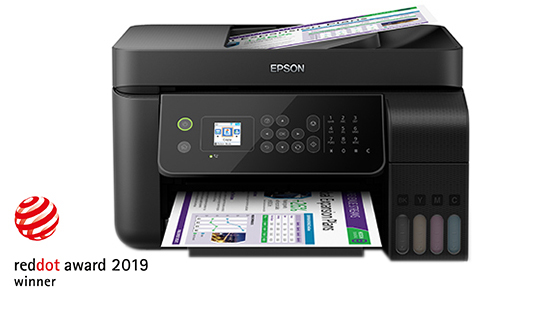printer: (111, 15, 478, 263)
